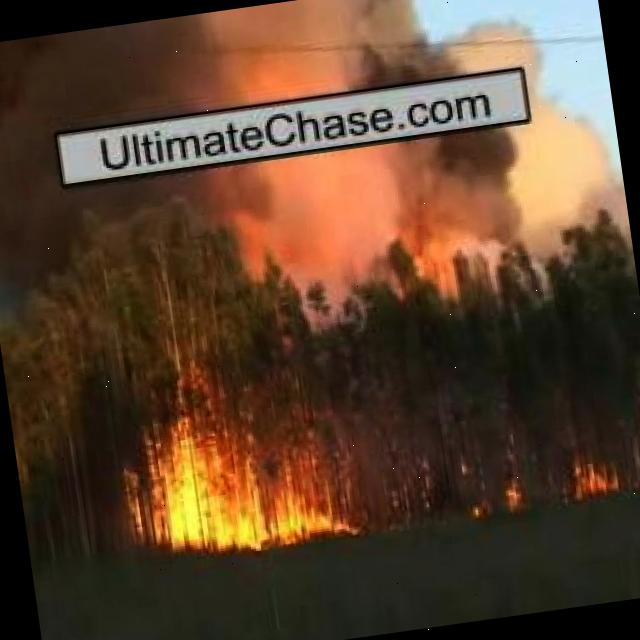fire: (157, 398, 340, 556), (458, 448, 528, 522), (397, 207, 443, 273), (568, 464, 620, 504)
